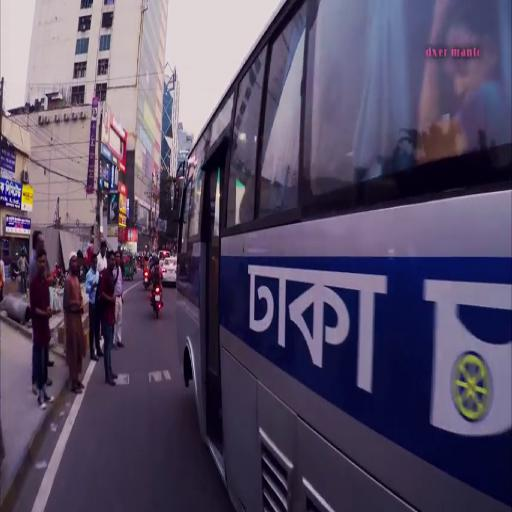bus: (174, 1, 512, 512)
car: (162, 257, 178, 283)
motorbike: (150, 278, 165, 317), (143, 264, 150, 289)
three wheelers (CNG): (120, 250, 136, 280)
